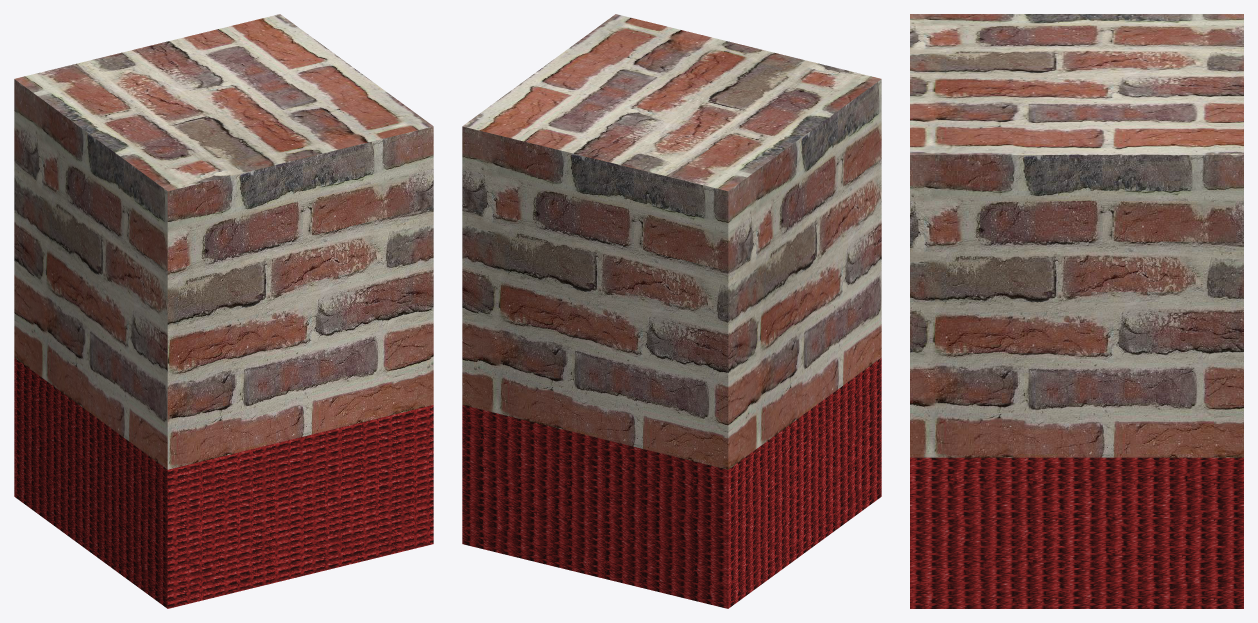
The model's file is Wall.fbx.
The picture shows the model from 3 angles, left to right: view 1: azimuth 30°, elevation 25°; view 2: azimuth 150°, elevation 25°; view 3: azimuth 270°, elevation 25°; orthographic projection. The views are drawn at different scales.
Visible parts, largest first — view 1: Cube.001, Cube; view 2: Cube.001, Cube; view 3: Cube.001, Cube.
Part boxes in pixels (x1,y1,x2,y2): Cube.001: [14, 14, 433, 469]; Cube: [14, 357, 433, 608]; Cube.001: [462, 14, 881, 469]; Cube: [462, 357, 881, 608]; Cube.001: [910, 14, 1243, 457]; Cube: [910, 457, 1243, 608].
Size of the model in its own units: 200 by 300 by 200.
